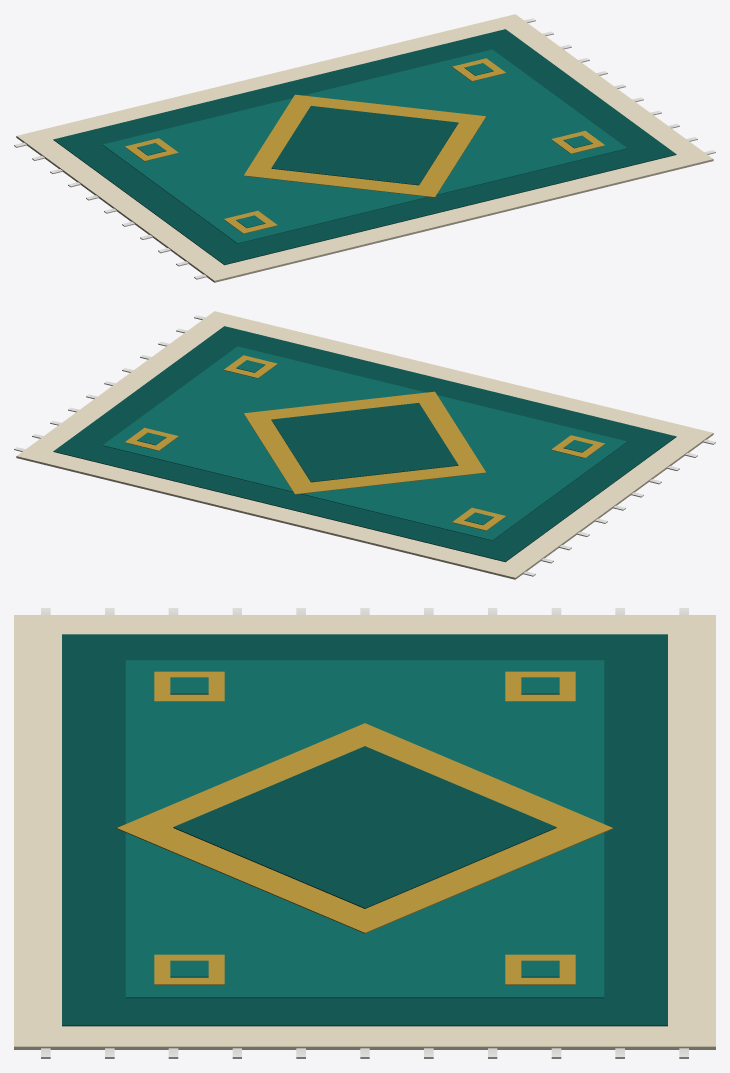
File: rug_large_01.glb
3 views of the same model, one above another, from view 1: azimuth 30°, elevation 25°; view 2: azimuth 150°, elevation 25°; view 3: azimuth 270°, elevation 25° (orthographic). The views are drawn at different scales.
Parts seen in each view (by area): view 1: rug_large_01_mesh; view 2: rug_large_01_mesh; view 3: rug_large_01_mesh.
Boxes of the visible parts, x1=… form: rug_large_01_mesh: x1=14, y1=14, x2=715, y2=282; rug_large_01_mesh: x1=14, y1=311, x2=715, y2=579; rug_large_01_mesh: x1=14, y1=608, x2=715, y2=1058.
Bounding box in the file's own units: 3.33 × 0.025 × 2.2.
1 material, 1 textured.
